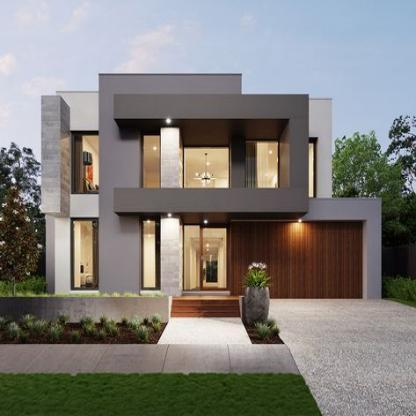Building Outline: (40, 72, 383, 323)
Door: (201, 225, 226, 291)
Facade: (41, 72, 384, 323)
Floor Slab: (46, 199, 381, 216)
Window: (71, 219, 99, 291), (185, 148, 229, 188), (71, 134, 98, 193), (247, 142, 279, 188), (142, 220, 160, 291), (185, 225, 201, 291), (298, 143, 315, 199), (143, 135, 160, 188)
